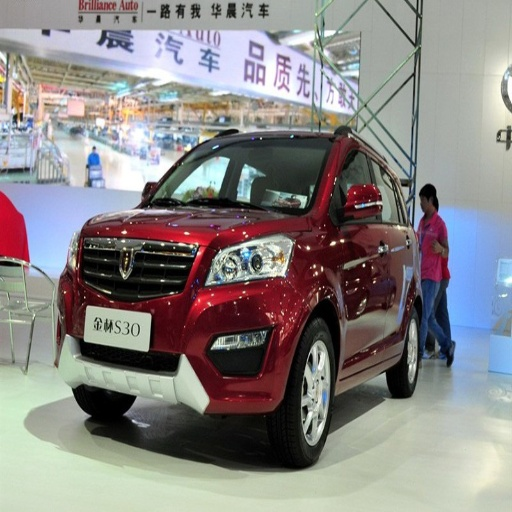front_bumper: (57, 240, 305, 413)
front_glass: (142, 139, 329, 214)
front_left_door: (330, 137, 387, 366)
